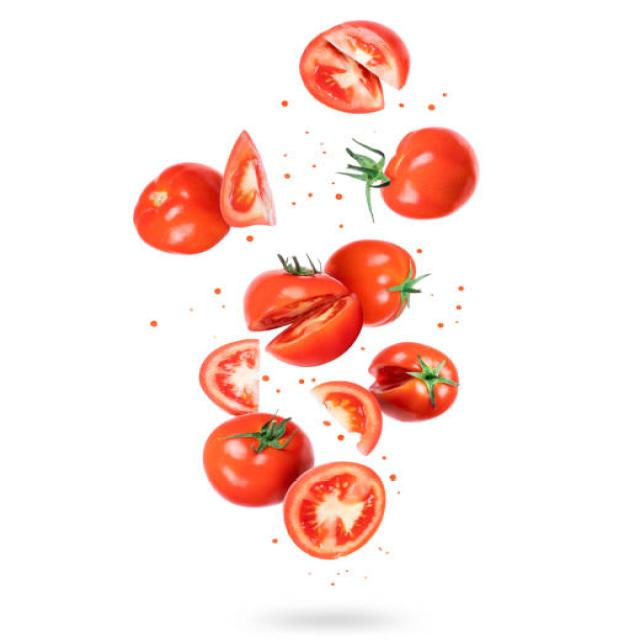Tomato: (266, 449, 409, 558), (302, 19, 424, 121), (220, 105, 316, 227), (192, 322, 274, 427), (302, 372, 389, 455)
